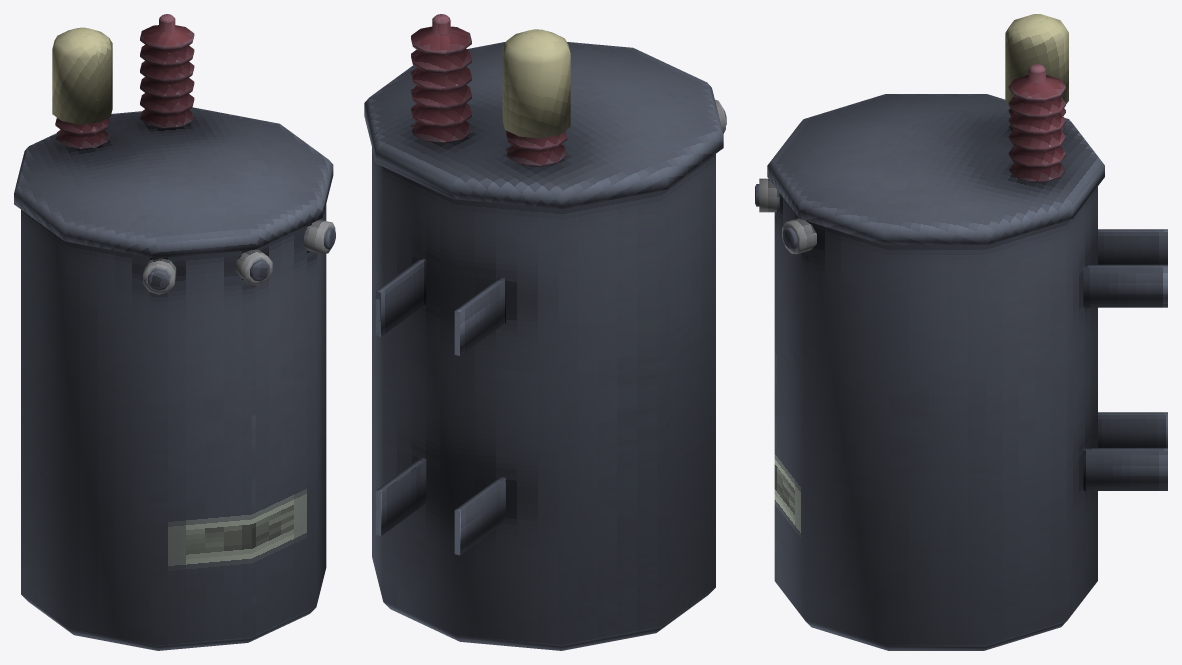
The model's file is transformer.glb.
3 renders of one model, left to right at view 1: azimuth 30°, elevation 25°; view 2: azimuth 150°, elevation 25°; view 3: azimuth 270°, elevation 25°, orthographic. The views are drawn at different scales.
Visible parts, largest first — view 1: prop_transformer; view 2: prop_transformer; view 3: prop_transformer.
Part boxes in pixels (<box>): prop_transformer: <box>14,14,335,650</box>; prop_transformer: <box>364,14,726,650</box>; prop_transformer: <box>755,14,1167,650</box>.
Bounding box in the file's own units: 0.9537 × 1.8 × 1.23.
Materials: 1 (1 with a texture image).
